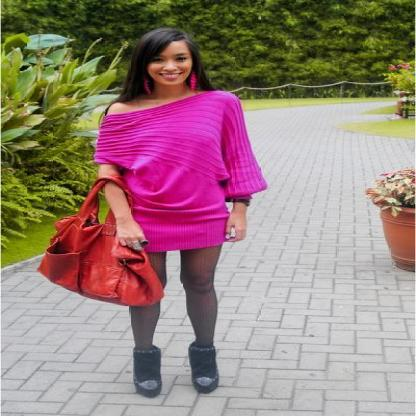bag: (38, 213, 162, 305)
dress: (94, 90, 261, 258)
pants: (129, 241, 221, 398)
shoe: (133, 340, 224, 397)
